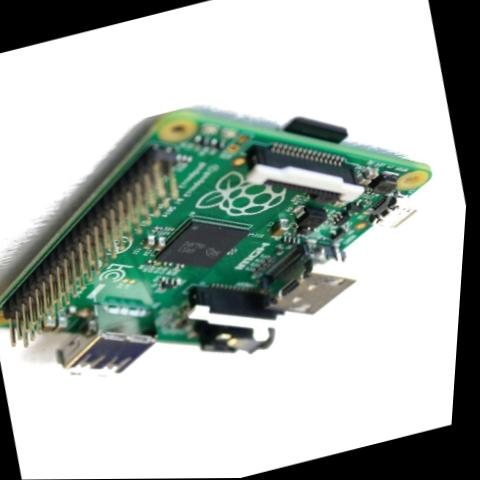Raspberry-Pi-1-Model-A-: (0, 46, 477, 424)
